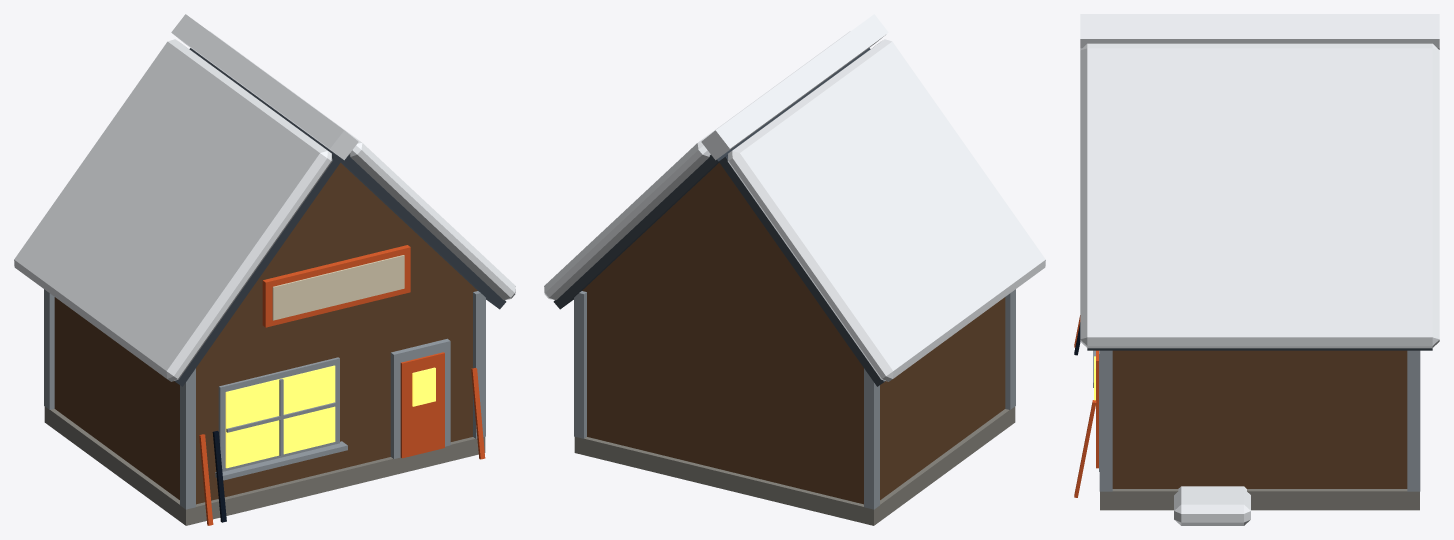
File: ski-shop-aframe60s.glb
3 renders of one model, left to right at view 1: azimuth 30°, elevation 25°; view 2: azimuth 150°, elevation 25°; view 3: azimuth 270°, elevation 25°, orthographic. The views are drawn at different scales.
Parts seen in each view (by area): view 1: ski-shop-aframe60s; view 2: ski-shop-aframe60s; view 3: ski-shop-aframe60s.
Boxes of the visible parts, <box> form: ski-shop-aframe60s: <box>14,14,515,525</box>; ski-shop-aframe60s: <box>544,14,1045,525</box>; ski-shop-aframe60s: <box>1074,14,1439,525</box>.
Size of the model in its own units: 7.9 by 7.71 by 6.17.
